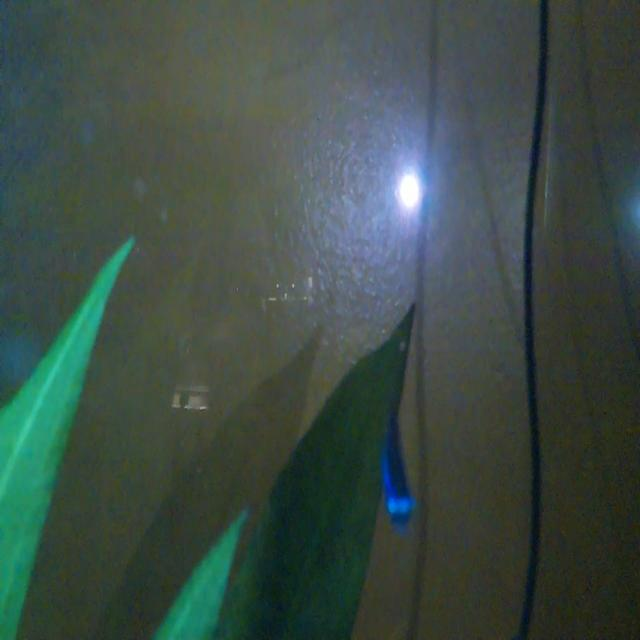fish: (370, 397, 424, 532)
